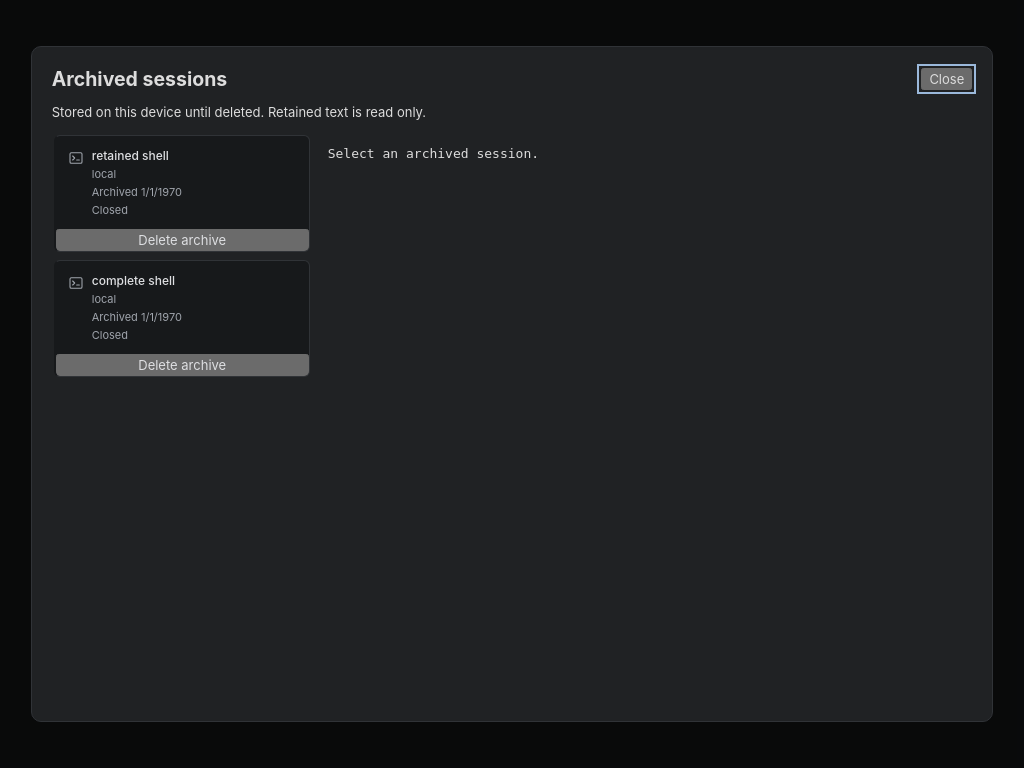
it: shows a retained-history gap across archive pages and clears it for another archive
What coordinates should you click on to do the following:
click the button "retained shell local Archived 1/1/1970 Closed"
I would click on:
 (182, 183)
Its box is [56,136,309,229].
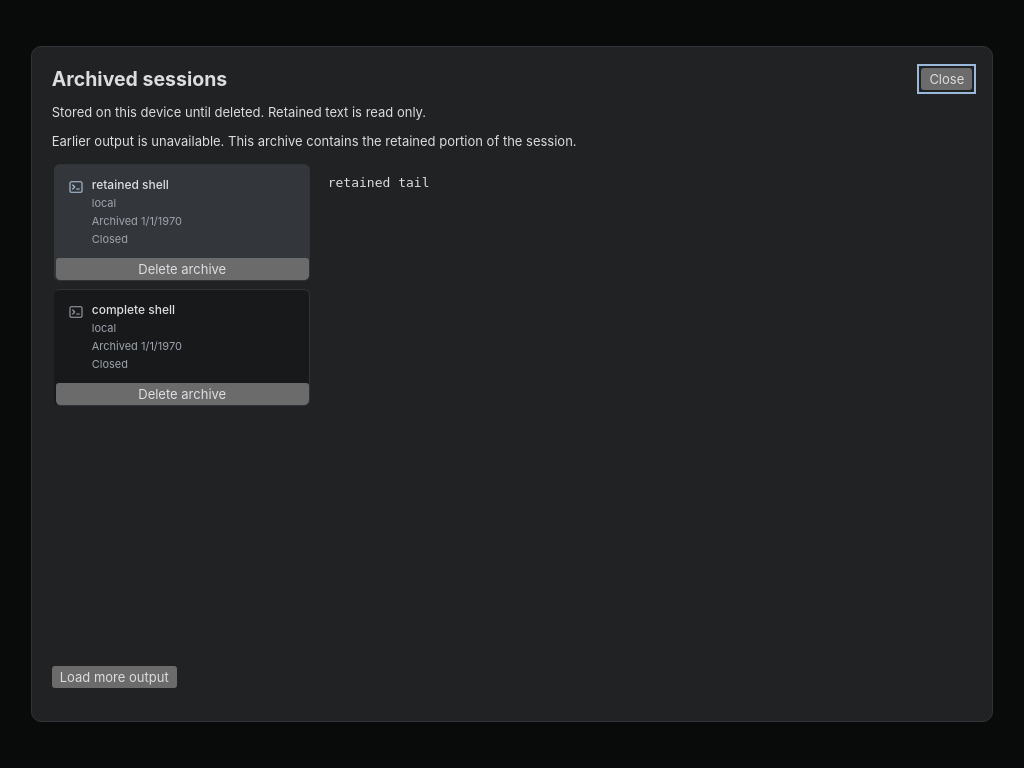
Expected: the text "Earlier output is unavailable" is shown, [52,133,577,149]
What coordinates should you click on to do the following:
click the button "Load more output"
I would click on:
 (114, 677)
Its box is [52,666,177,688].
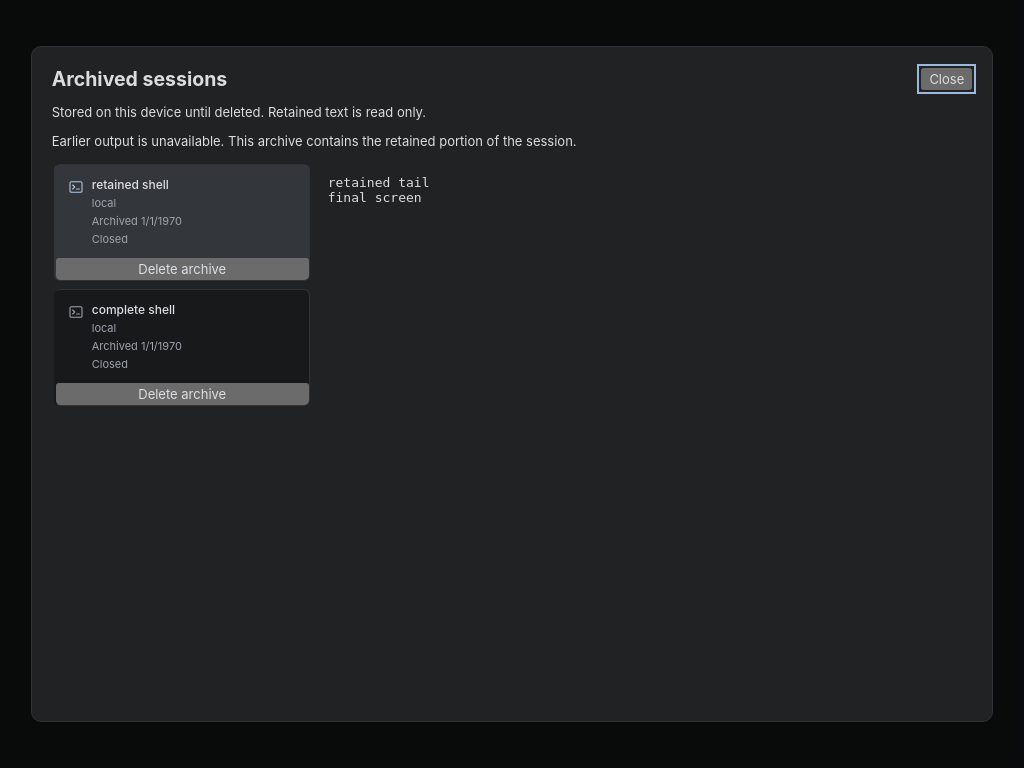
Expected: the text "Earlier output is unavailable" is shown, [52,133,577,149]
What coordinates should you click on to do the following:
click the button "complete shell local Archived 1/1/1970 Closed"
I would click on:
 (182, 337)
Its box is [56,290,309,383].
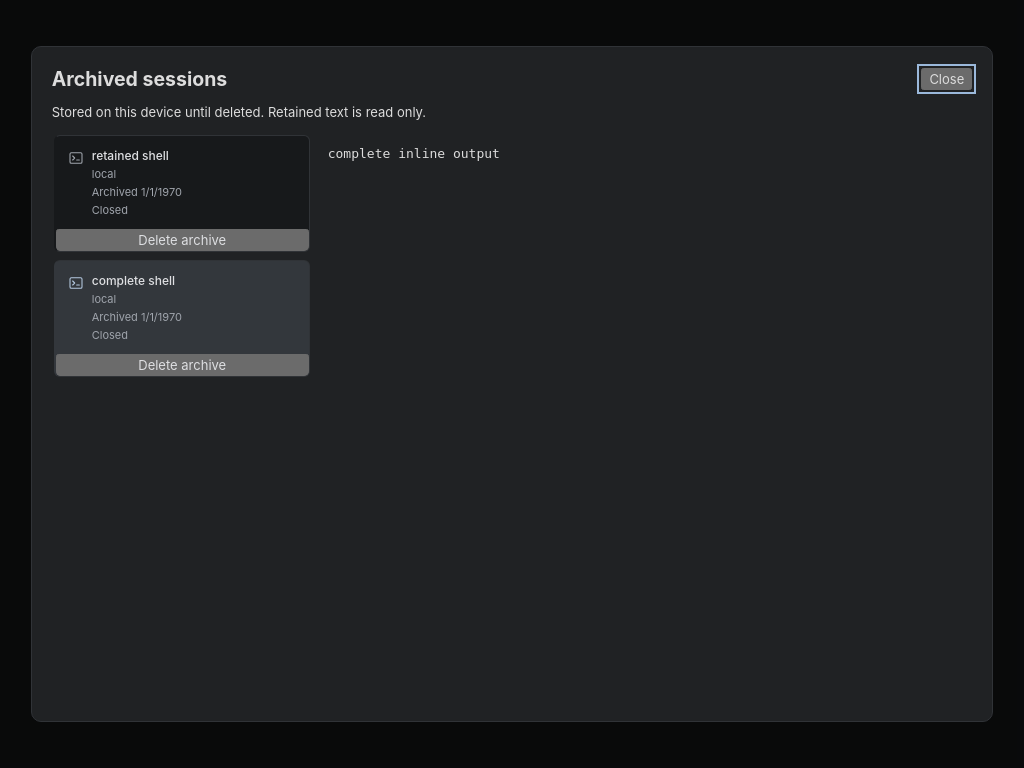
Expected: the text "Earlier output is unavailable" is gone
